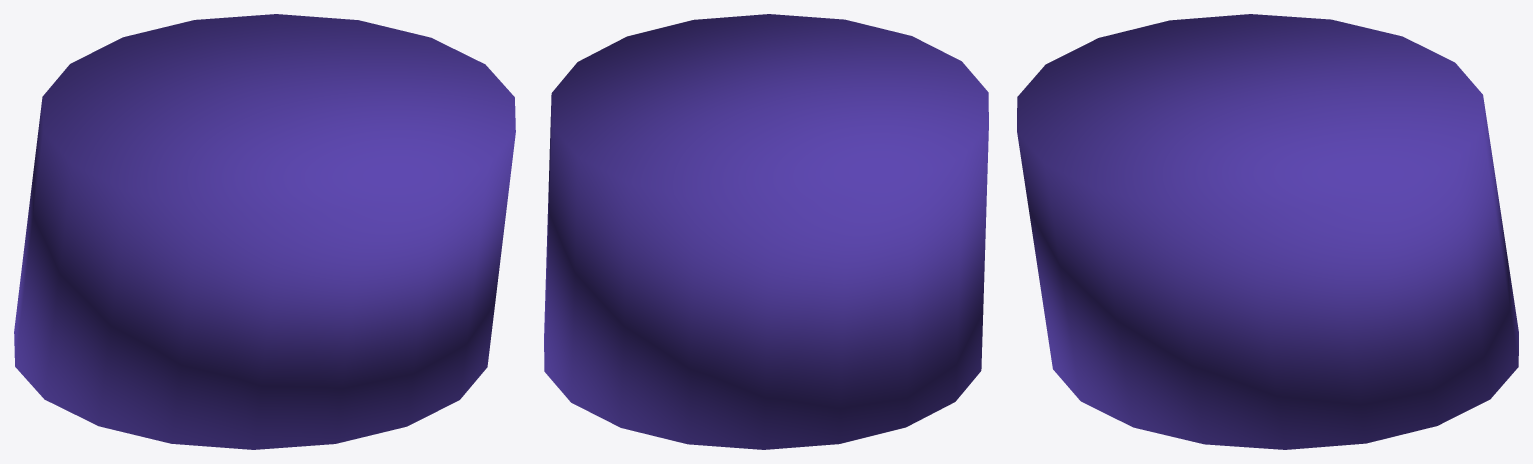
File: kidstable_collision.FBX
The picture shows the model from 3 angles, left to right: view 1: azimuth 30°, elevation 25°; view 2: azimuth 150°, elevation 25°; view 3: azimuth 270°, elevation 25°; orthographic projection. The views are drawn at different scales.
Parts seen in each view (by area): view 1: collision; view 2: collision; view 3: collision.
Boxes of the visible parts, bbox=[...] form: collision: bbox=[14, 14, 515, 449]; collision: bbox=[544, 14, 988, 449]; collision: bbox=[1017, 14, 1518, 449].
Size of the model in its own units: 52.55 by 29.25 by 54.86.
1 material, 1 textured.
